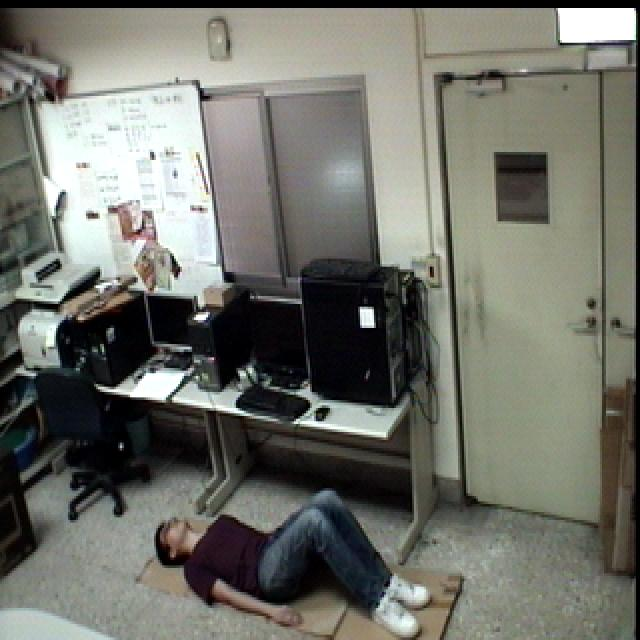lie: (142, 474, 437, 640)
